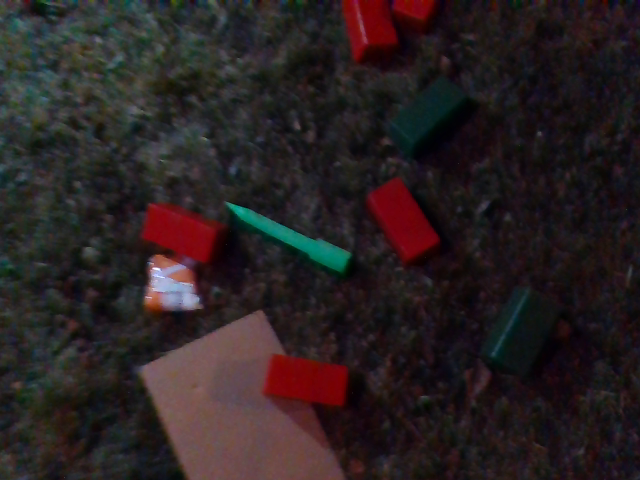Probe: (219, 199, 355, 274)
